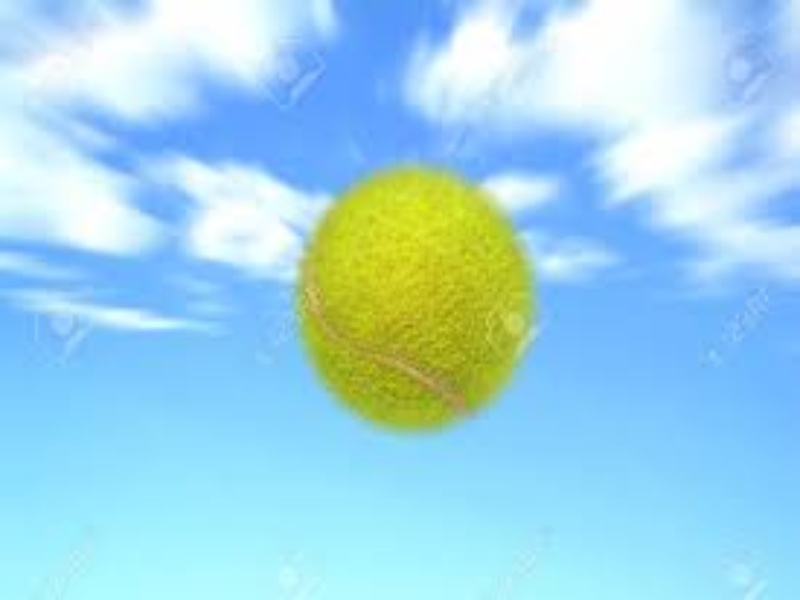tennis ball: (296, 170, 566, 424)
